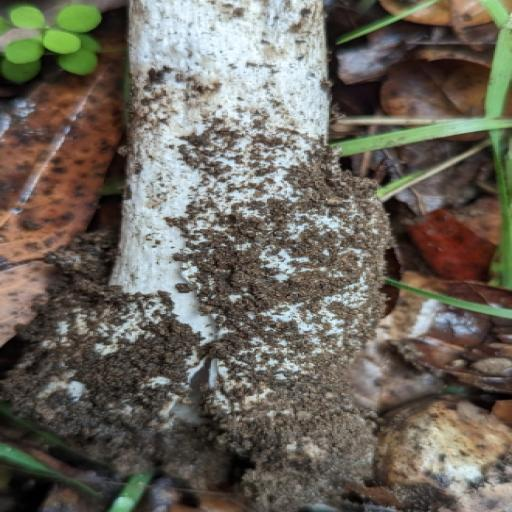mushroom: (16, 0, 438, 512)
